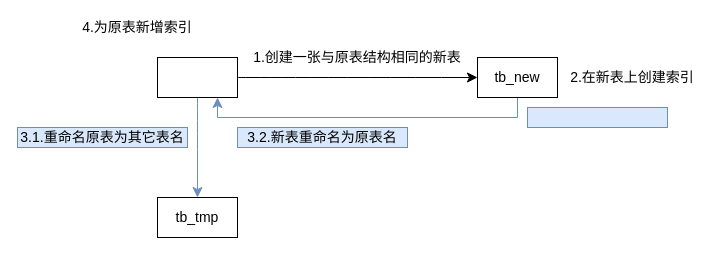
This 715x255 diagram has some shape labels left out. The shapes that lost their labels are listed below. From the top down, each one's centre as x and y in pixels, then its label:
At (x=197, y=77): "tb".
At (x=597, y=117): "3.3.此时新表承担业务".
